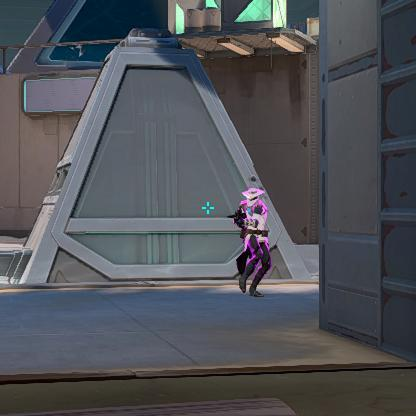enemyBody: (247, 206, 261, 231)
enemyHead: (249, 194, 257, 204)
